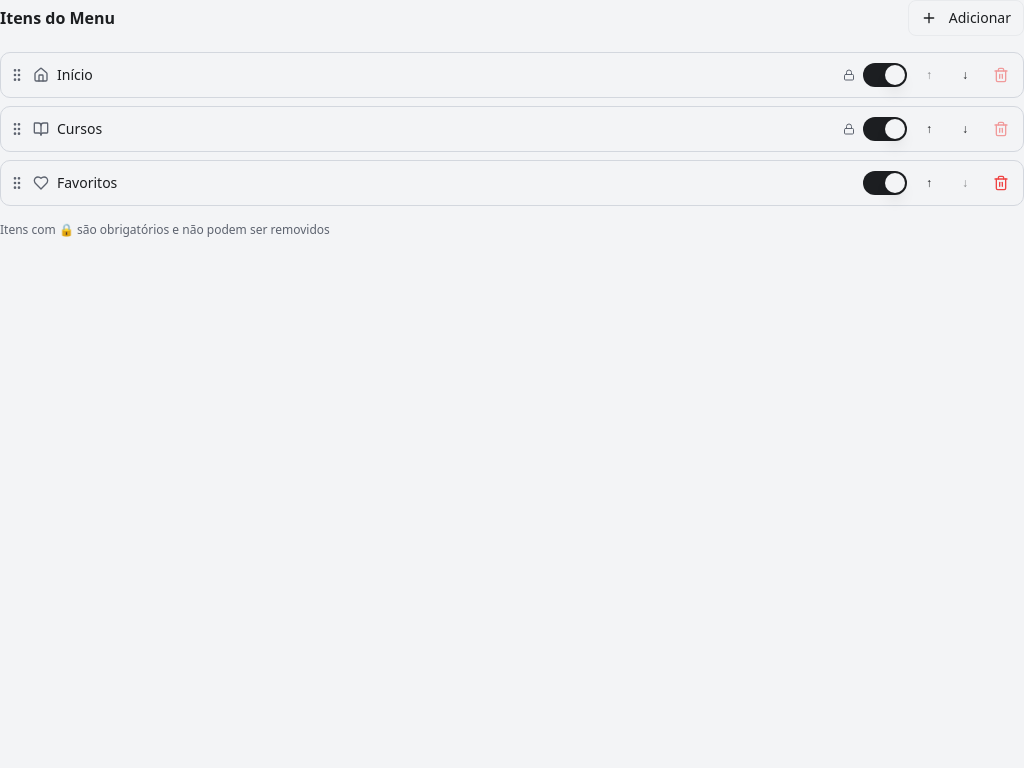
MenuEditor › Add Item Dialog › should show link input in dialog
The width and height of the screenshot is (1024, 768).
Click the button "Adicionar": (966, 18) [908,0,1023,36]
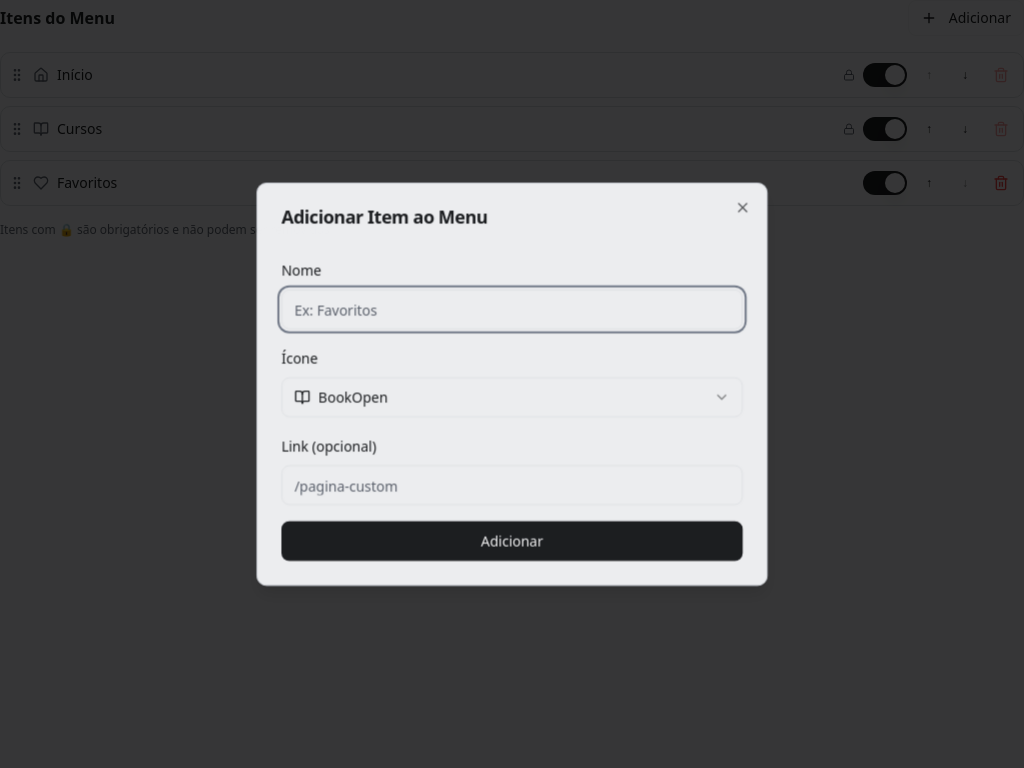
Expected: the field with placeholder "/pagina-custom" is shown, [281,465,743,505]
